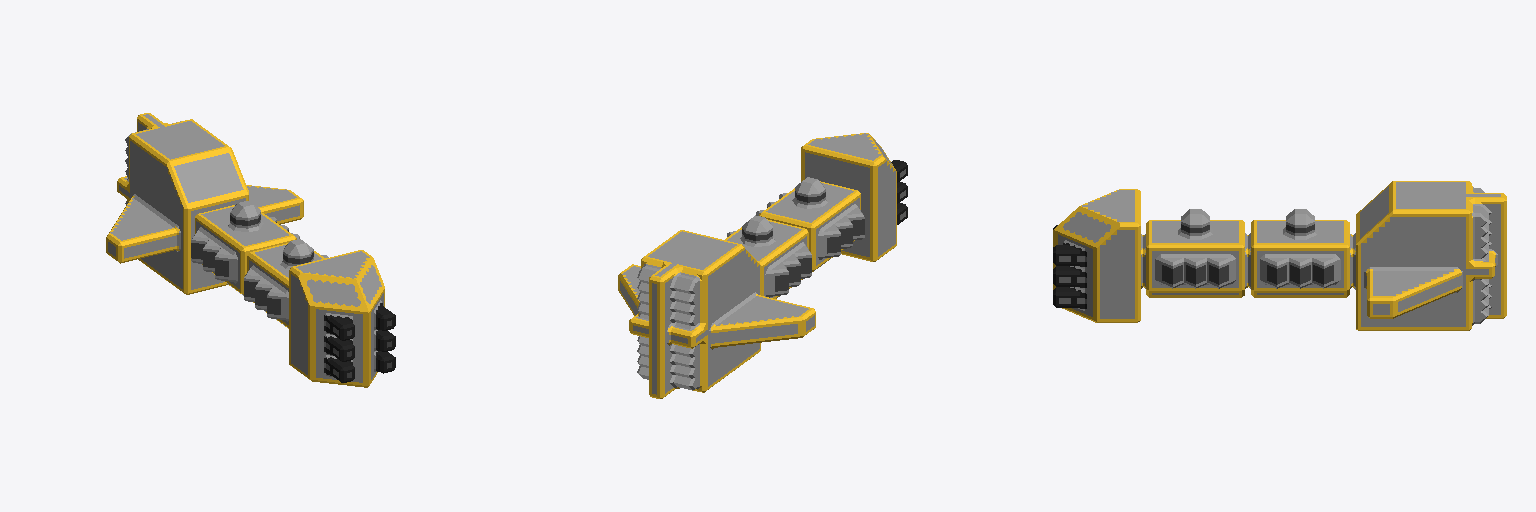
The picture shows the model from 3 angles: view 1: azimuth 30°, elevation 25°; view 2: azimuth 150°, elevation 25°; view 3: azimuth 270°, elevation 25°; orthographic projection.
Bounding box in the file's own units: 37 × 23 × 78.
1 materials, 1 textured.